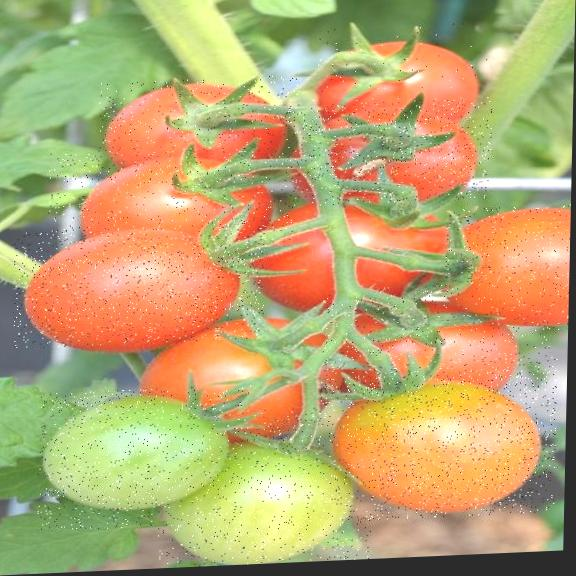Tomato: (323, 356, 558, 522), (156, 404, 374, 568), (12, 221, 266, 349), (37, 384, 252, 532), (321, 281, 553, 411), (47, 143, 296, 253), (282, 97, 492, 207), (97, 75, 300, 185), (312, 20, 489, 136), (444, 204, 571, 338)
